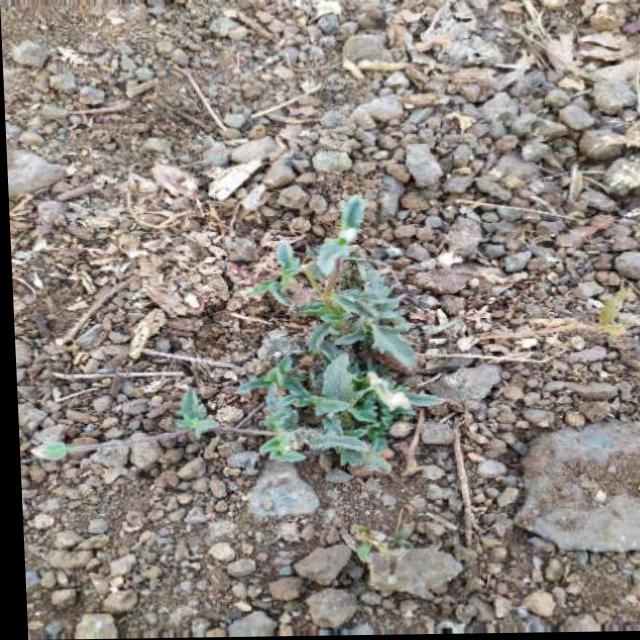weed: (191, 212, 468, 483)
